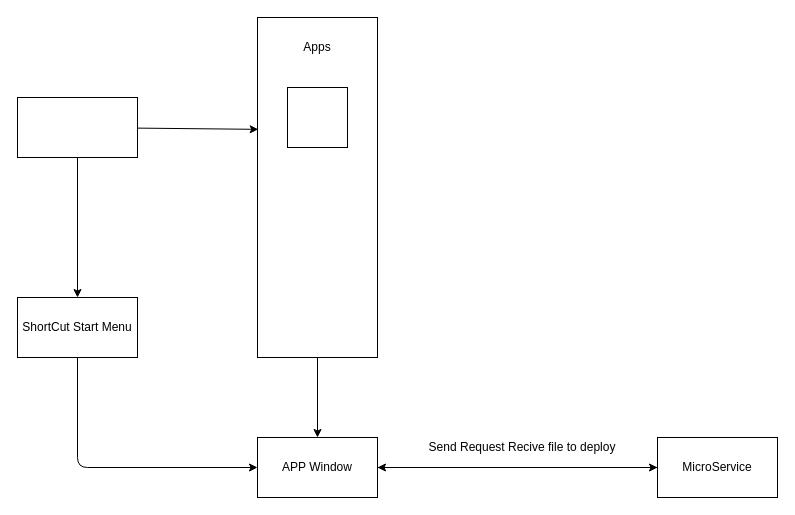
This 795x515 diagram has some shape labels left out. Here are the shapes that lost their labels. From the top down, the centre of each, then its label:
At pixel 77 127: "Desktop".
At pixel 317 117: "APP GUI".
